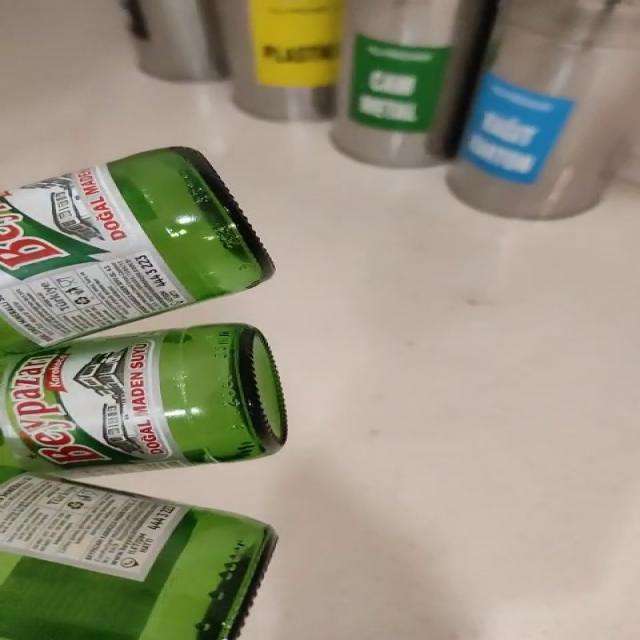Glass: (0, 147, 287, 640)
